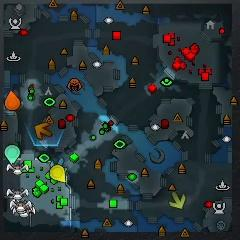p2: (5, 145, 20, 165)
p4: (50, 165, 66, 183)
p5: (4, 90, 21, 111)
x2: (169, 191, 186, 208)
x3: (50, 158, 67, 171)
x5: (34, 123, 52, 139)
